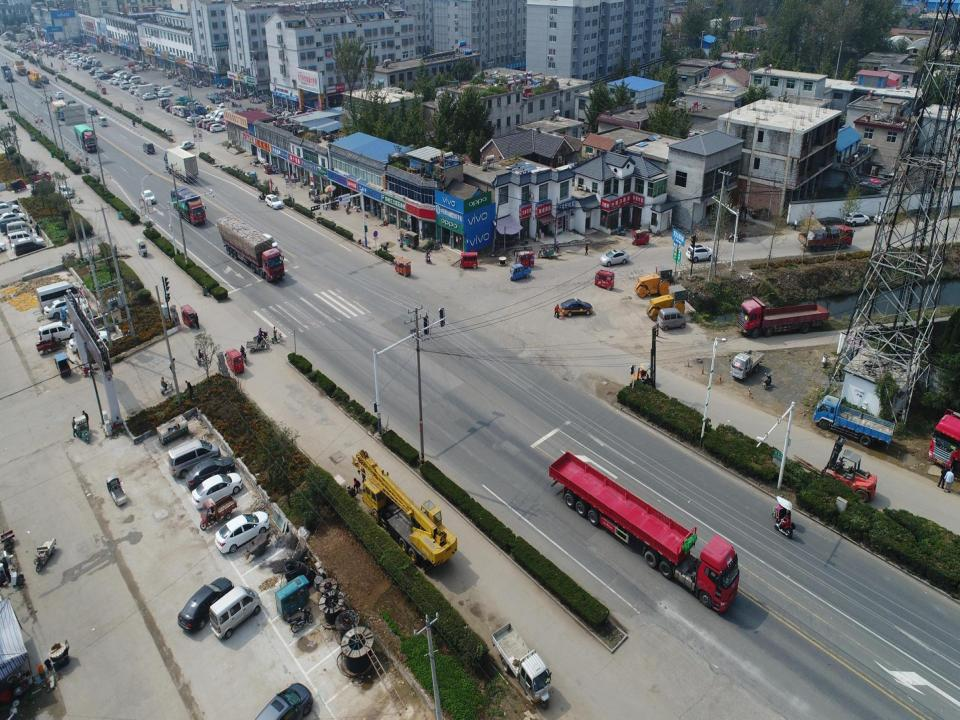car: (176, 574, 234, 632), (215, 511, 271, 554), (254, 682, 315, 720), (190, 472, 243, 508), (184, 456, 236, 490), (67, 328, 111, 353), (42, 296, 83, 322), (37, 322, 82, 344), (64, 305, 100, 328), (560, 297, 593, 319), (685, 244, 715, 264), (873, 205, 897, 228), (842, 208, 870, 227), (601, 248, 630, 266), (10, 237, 46, 251), (8, 230, 39, 246), (59, 304, 87, 321), (258, 230, 278, 253), (0, 211, 27, 226), (264, 194, 283, 209), (140, 188, 156, 205), (0, 203, 19, 216), (59, 184, 74, 199), (176, 140, 196, 150), (186, 113, 206, 123), (142, 140, 154, 154), (165, 103, 179, 115), (179, 108, 194, 119), (205, 110, 220, 120), (210, 123, 226, 132), (204, 121, 220, 130), (196, 117, 210, 127), (119, 81, 136, 89), (98, 116, 109, 128), (201, 105, 213, 116), (128, 84, 141, 94), (141, 92, 157, 100), (113, 78, 129, 86), (172, 106, 184, 116), (158, 90, 173, 98), (169, 105, 182, 114), (87, 106, 98, 116), (235, 106, 246, 116), (89, 66, 102, 74), (54, 89, 64, 99), (114, 70, 125, 79), (98, 73, 112, 80), (215, 104, 227, 112), (134, 88, 146, 96), (108, 77, 120, 85), (88, 70, 103, 76), (110, 66, 121, 74), (122, 74, 134, 81), (118, 72, 128, 80), (55, 90, 63, 99), (112, 70, 124, 76)
truck: (546, 447, 741, 614), (812, 391, 901, 451), (217, 214, 285, 282), (734, 295, 830, 337), (796, 221, 852, 255), (170, 186, 207, 226), (732, 349, 763, 378), (74, 120, 98, 152), (179, 103, 207, 118), (54, 102, 70, 124), (26, 69, 44, 88), (0, 63, 14, 83), (13, 61, 27, 76)
van: (210, 584, 262, 640), (167, 440, 222, 479), (34, 281, 82, 309), (655, 308, 689, 333), (13, 241, 46, 255), (6, 222, 32, 238), (1, 217, 24, 232), (210, 107, 229, 123), (215, 110, 232, 126), (202, 117, 216, 129), (176, 105, 190, 116), (128, 75, 142, 84), (94, 70, 109, 78), (159, 86, 172, 95), (159, 97, 171, 105)
